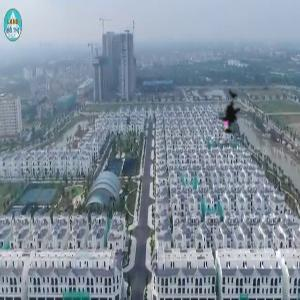drone: (192, 77, 263, 148)
